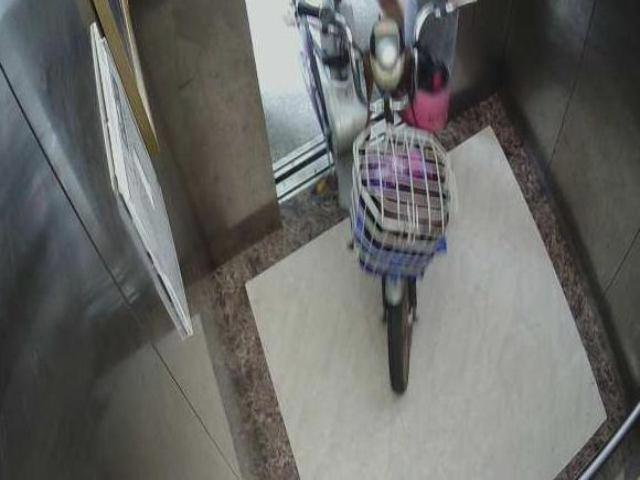emotor: (294, 8, 443, 390)
